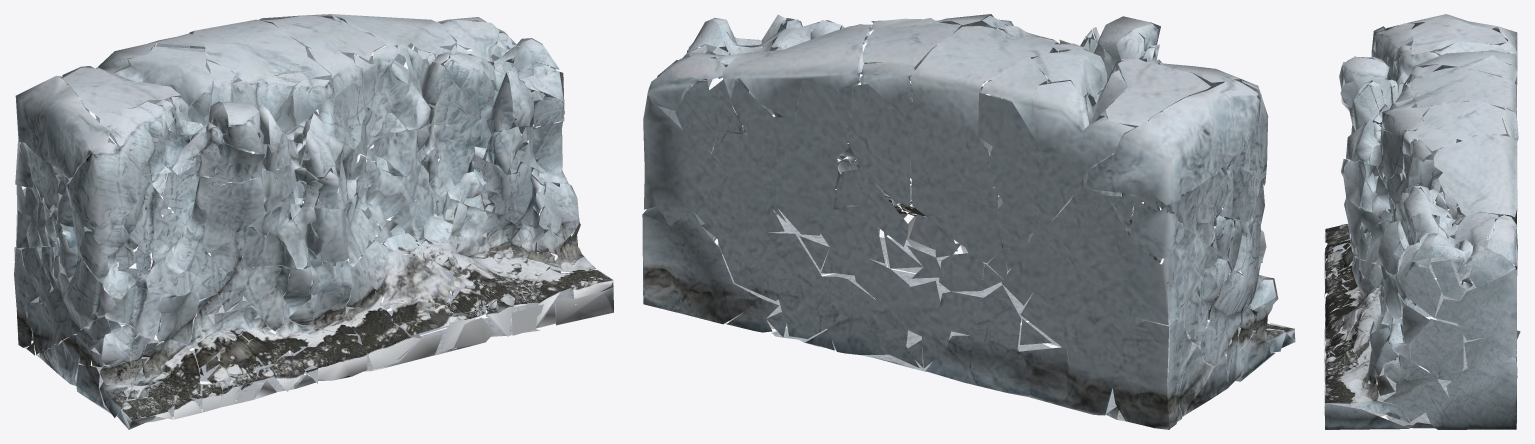
Rendered from glacier.glb.
3 views of the same model, side by side, from view 1: azimuth 30°, elevation 25°; view 2: azimuth 150°, elevation 25°; view 3: azimuth 270°, elevation 25° (orthographic). The views are drawn at different scales.
Visible parts, largest first — view 1: Mesh_0; view 2: Mesh_0; view 3: Mesh_0.
Part boxes in pixels (left/top/right/bottom): Mesh_0: left=14, top=14, right=613, bottom=429; Mesh_0: left=642, top=14, right=1295, bottom=429; Mesh_0: left=1324, top=14, right=1520, bottom=429.
Size of the model in its own units: 12.81 by 7 by 5.33.
Materials: 1 (1 with a texture image).
